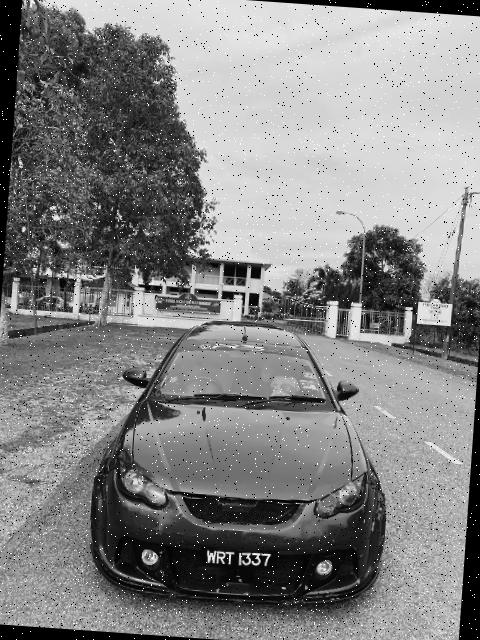License_Plate: (199, 541, 285, 578)
car: (88, 309, 401, 619)
